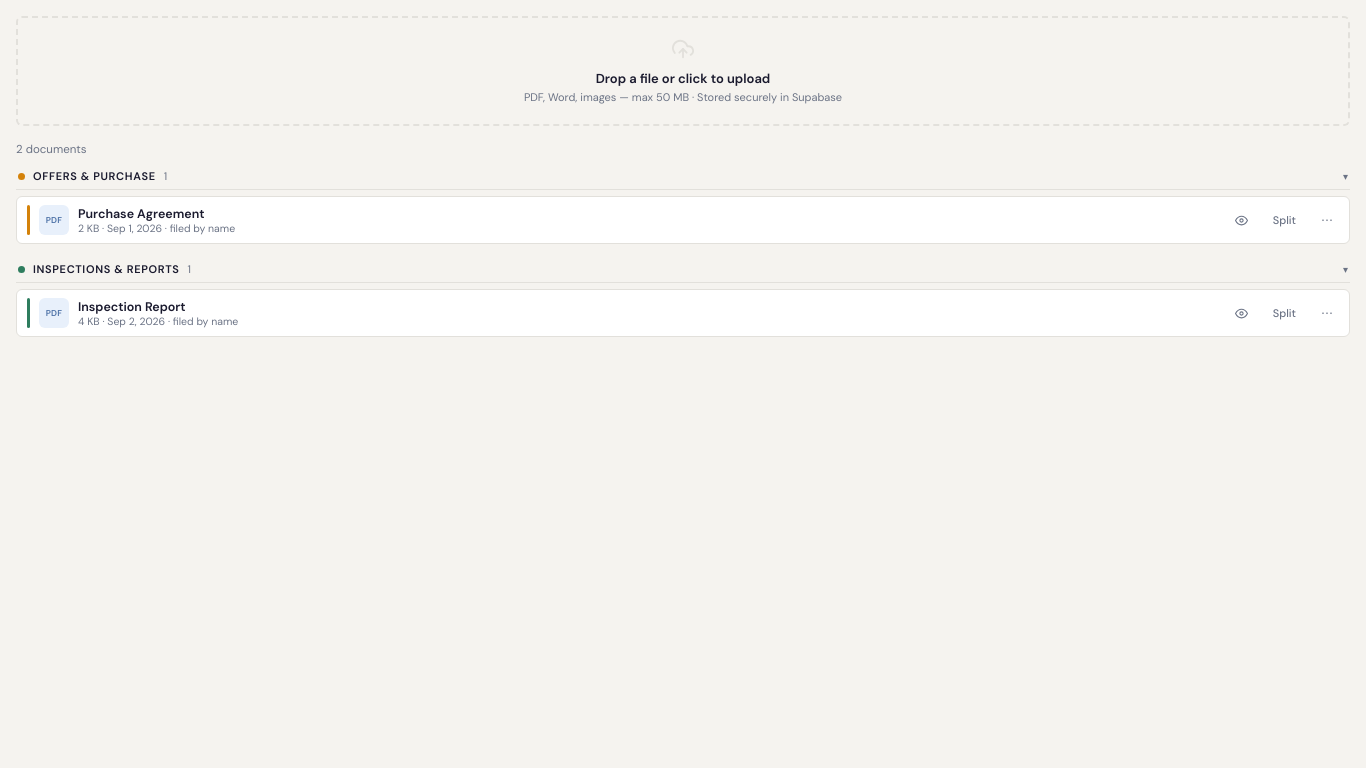
Test case: Documents tab — Quick Look › opens from the file name, steps to the next document, and closes
The width and height of the screenshot is (1366, 768).
Click the button "Purchase Agreement": (141, 214) 78,206 -> 204,222
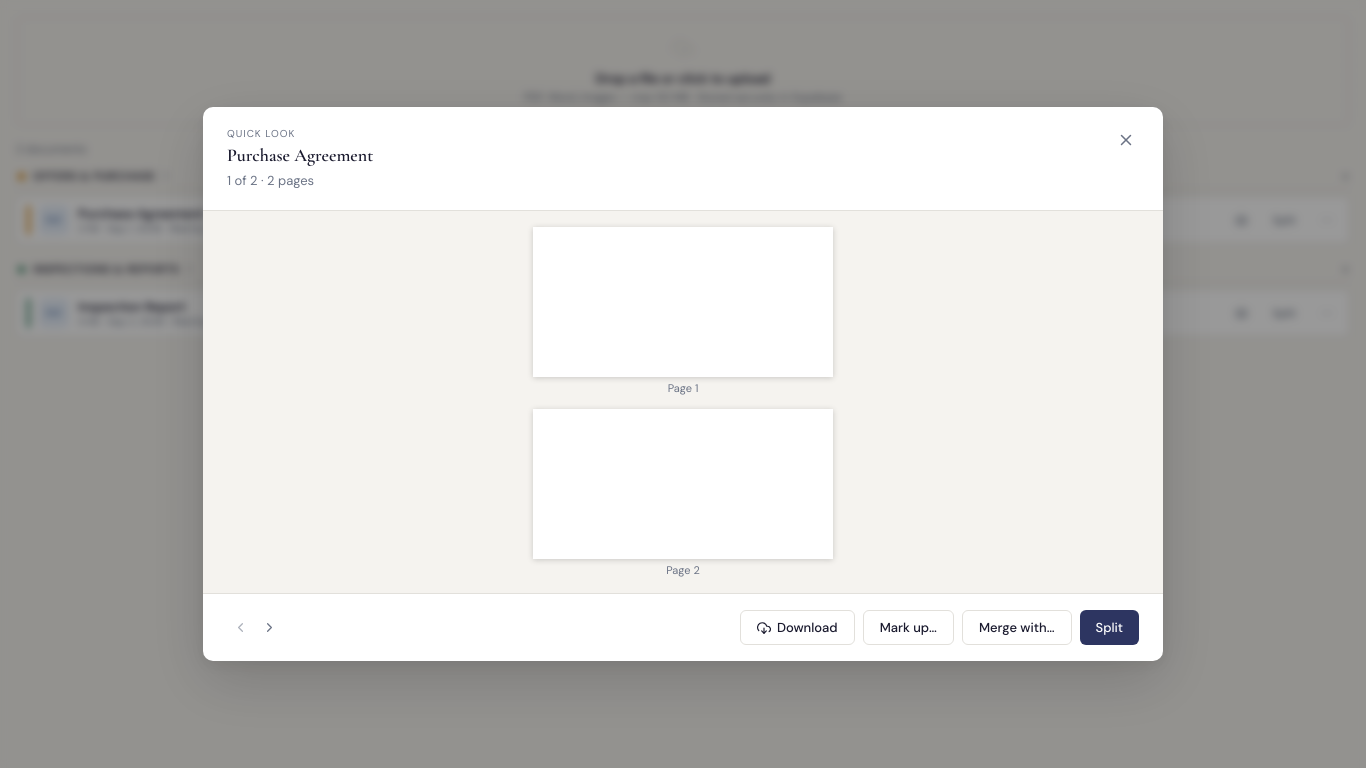
Expected: the text "Quick look" is shown, 227,126 -> 295,140
Expected: the number of pictures named "Page 1" is 2, 533,227 -> 833,377; 533,409 -> 833,559
Click the button named "Next document": (270, 628) 256,610 -> 283,645
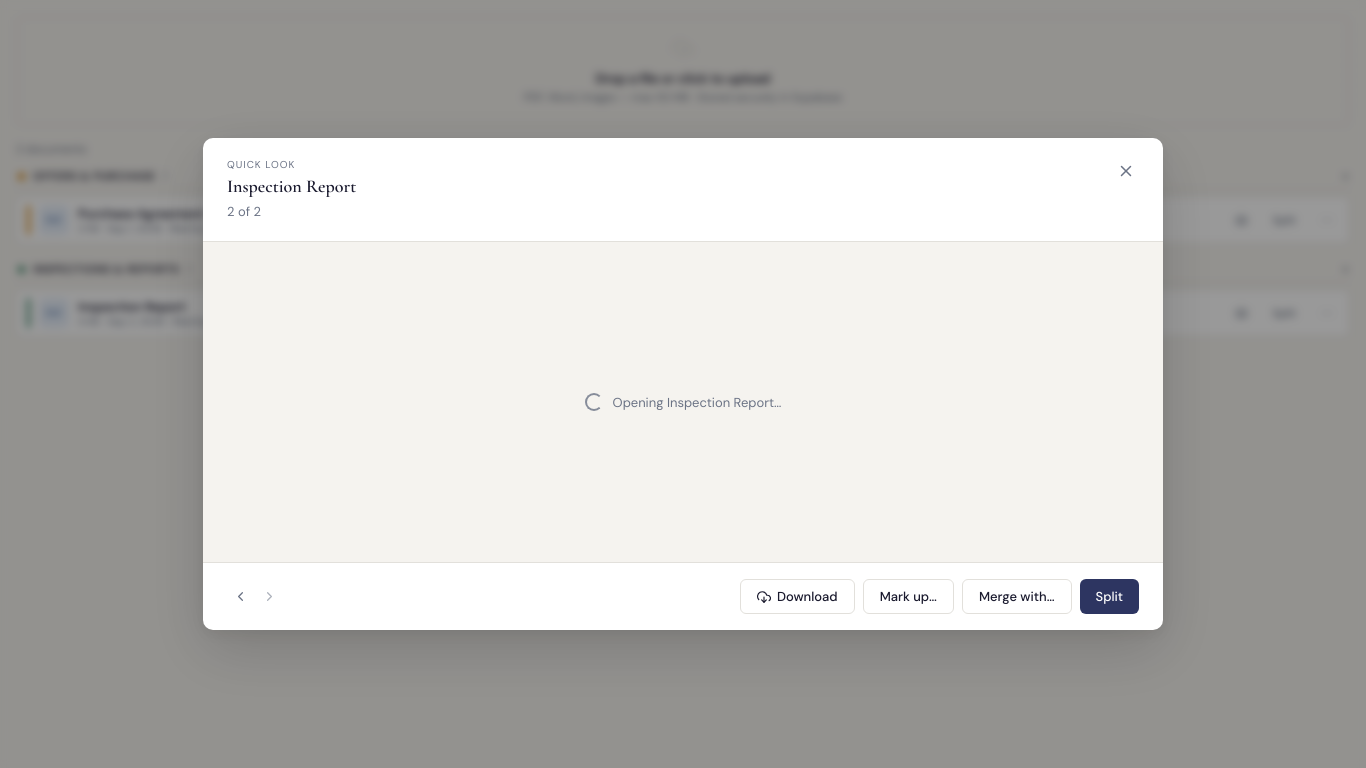
Expected: the dialog "Inspection Report" is shown, 203,138 -> 1163,630
Click the button named "Close dialog": (1126, 170) 1113,158 -> 1139,184
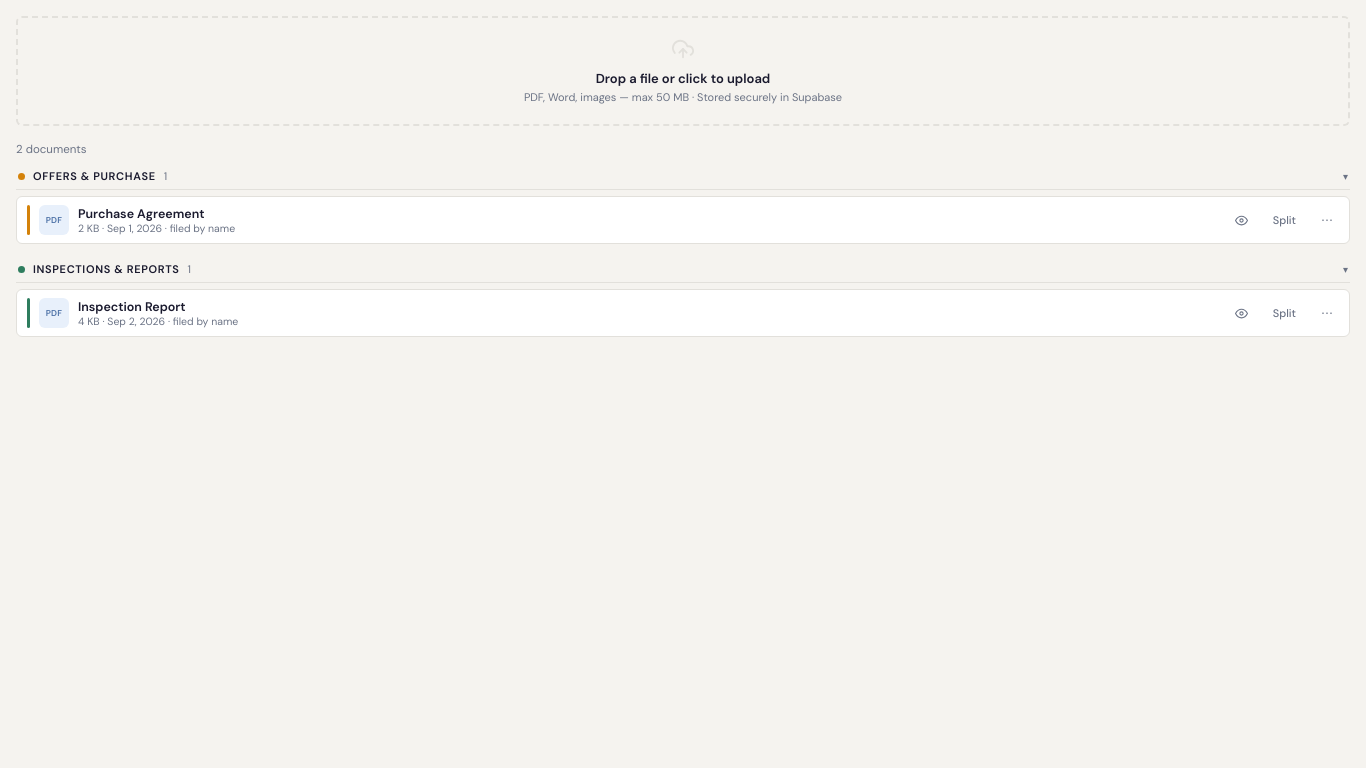
Expected: the dialog is gone
